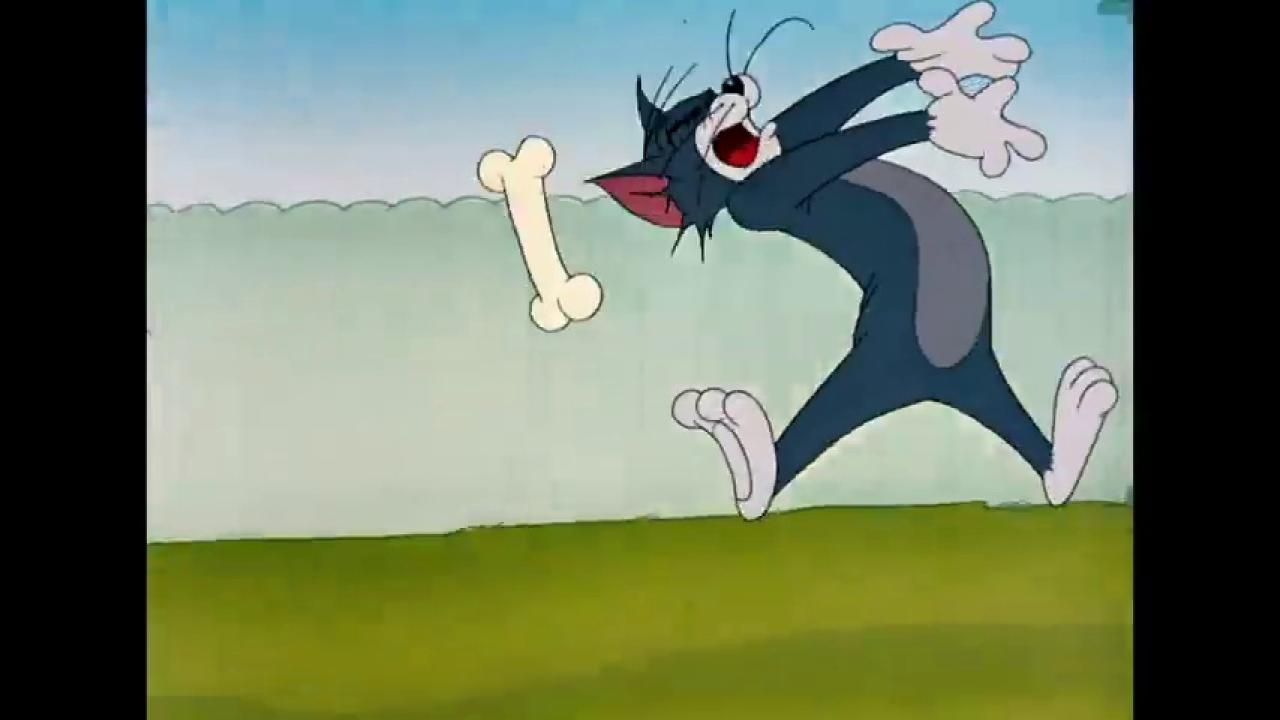Tom: (579, 0, 1120, 522)
